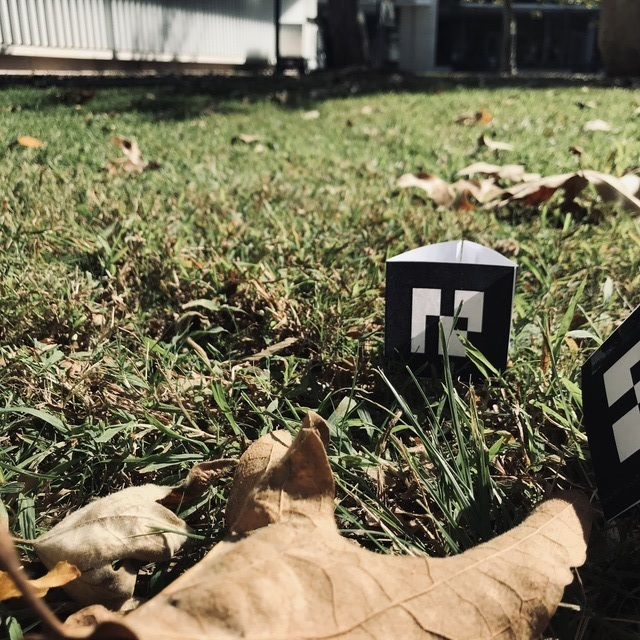ARTag: (385, 238, 516, 379), (580, 302, 638, 523)
